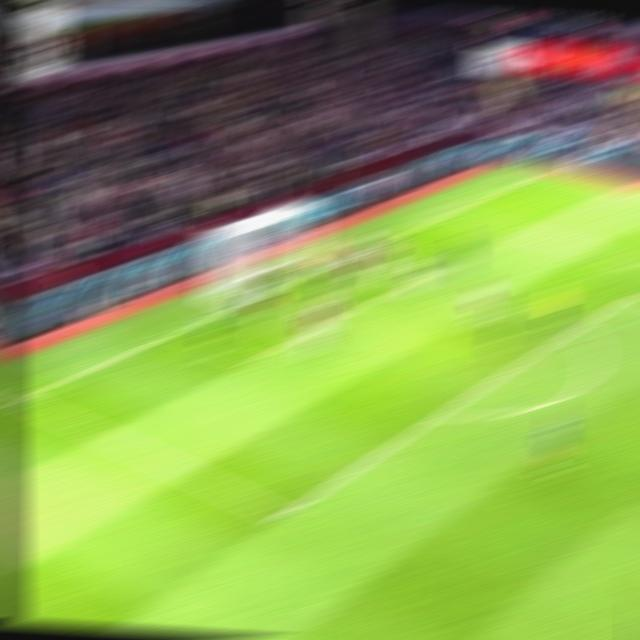bigarea_bottom_inner: (265, 502, 303, 529)
bigarea_bottom_outter: (5, 391, 37, 408)
bigarea_top_outter: (438, 206, 466, 218)
bottom_arc_area_intersection: (423, 403, 458, 427)
corner: (530, 166, 562, 177)
smallarea_bottom_inner: (234, 349, 266, 371)
smallarea_bottom_outter: (162, 325, 191, 340)
smallarea_top_inner: (416, 264, 444, 280)
smallarea_top_outter: (360, 244, 387, 256)
top_arc_area_intersection: (562, 319, 594, 339)
